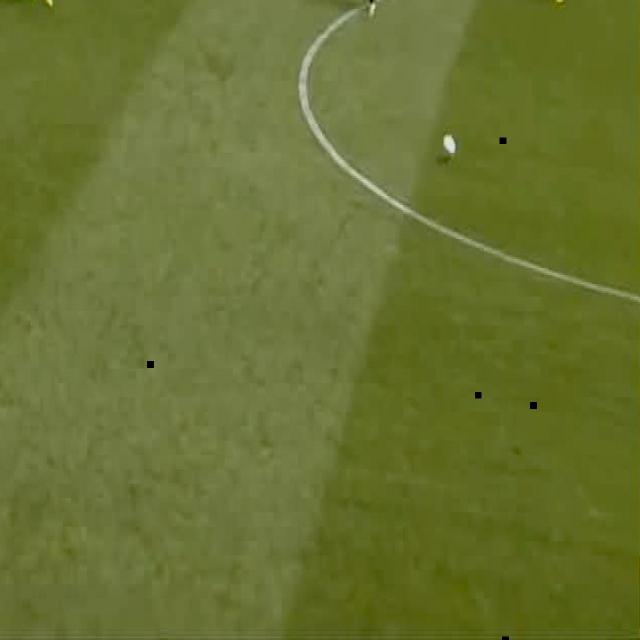ball: (443, 136, 455, 157)
player-white: (335, 0, 379, 20), (24, 0, 54, 7), (554, 0, 586, 2)
